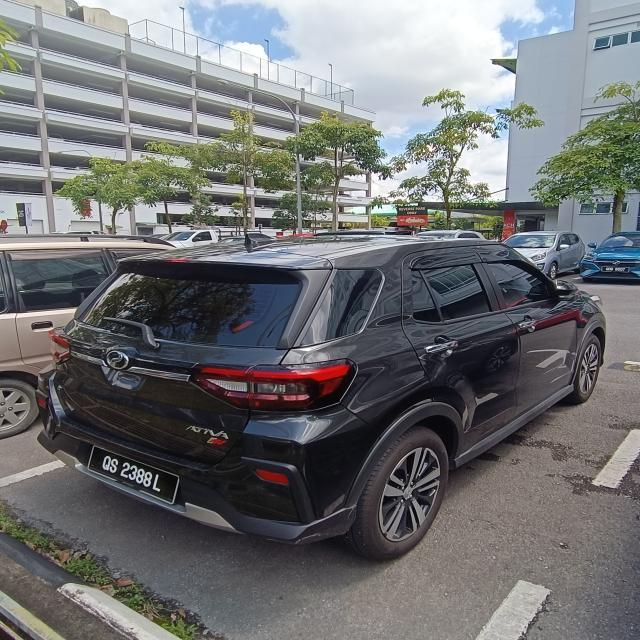PeroduaAtiva: (33, 230, 608, 561)
